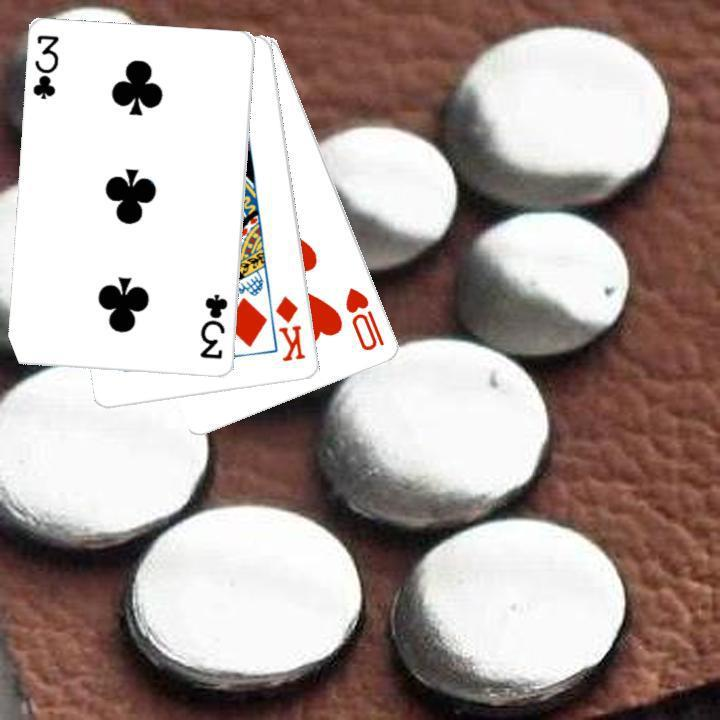10: (341, 283, 387, 353)
3: (196, 290, 231, 362), (28, 31, 61, 102)
K: (271, 291, 308, 364)
